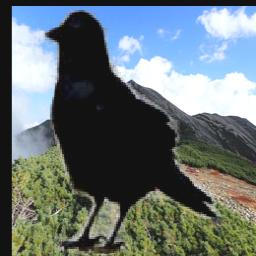Crow: (39, 6, 224, 255)
